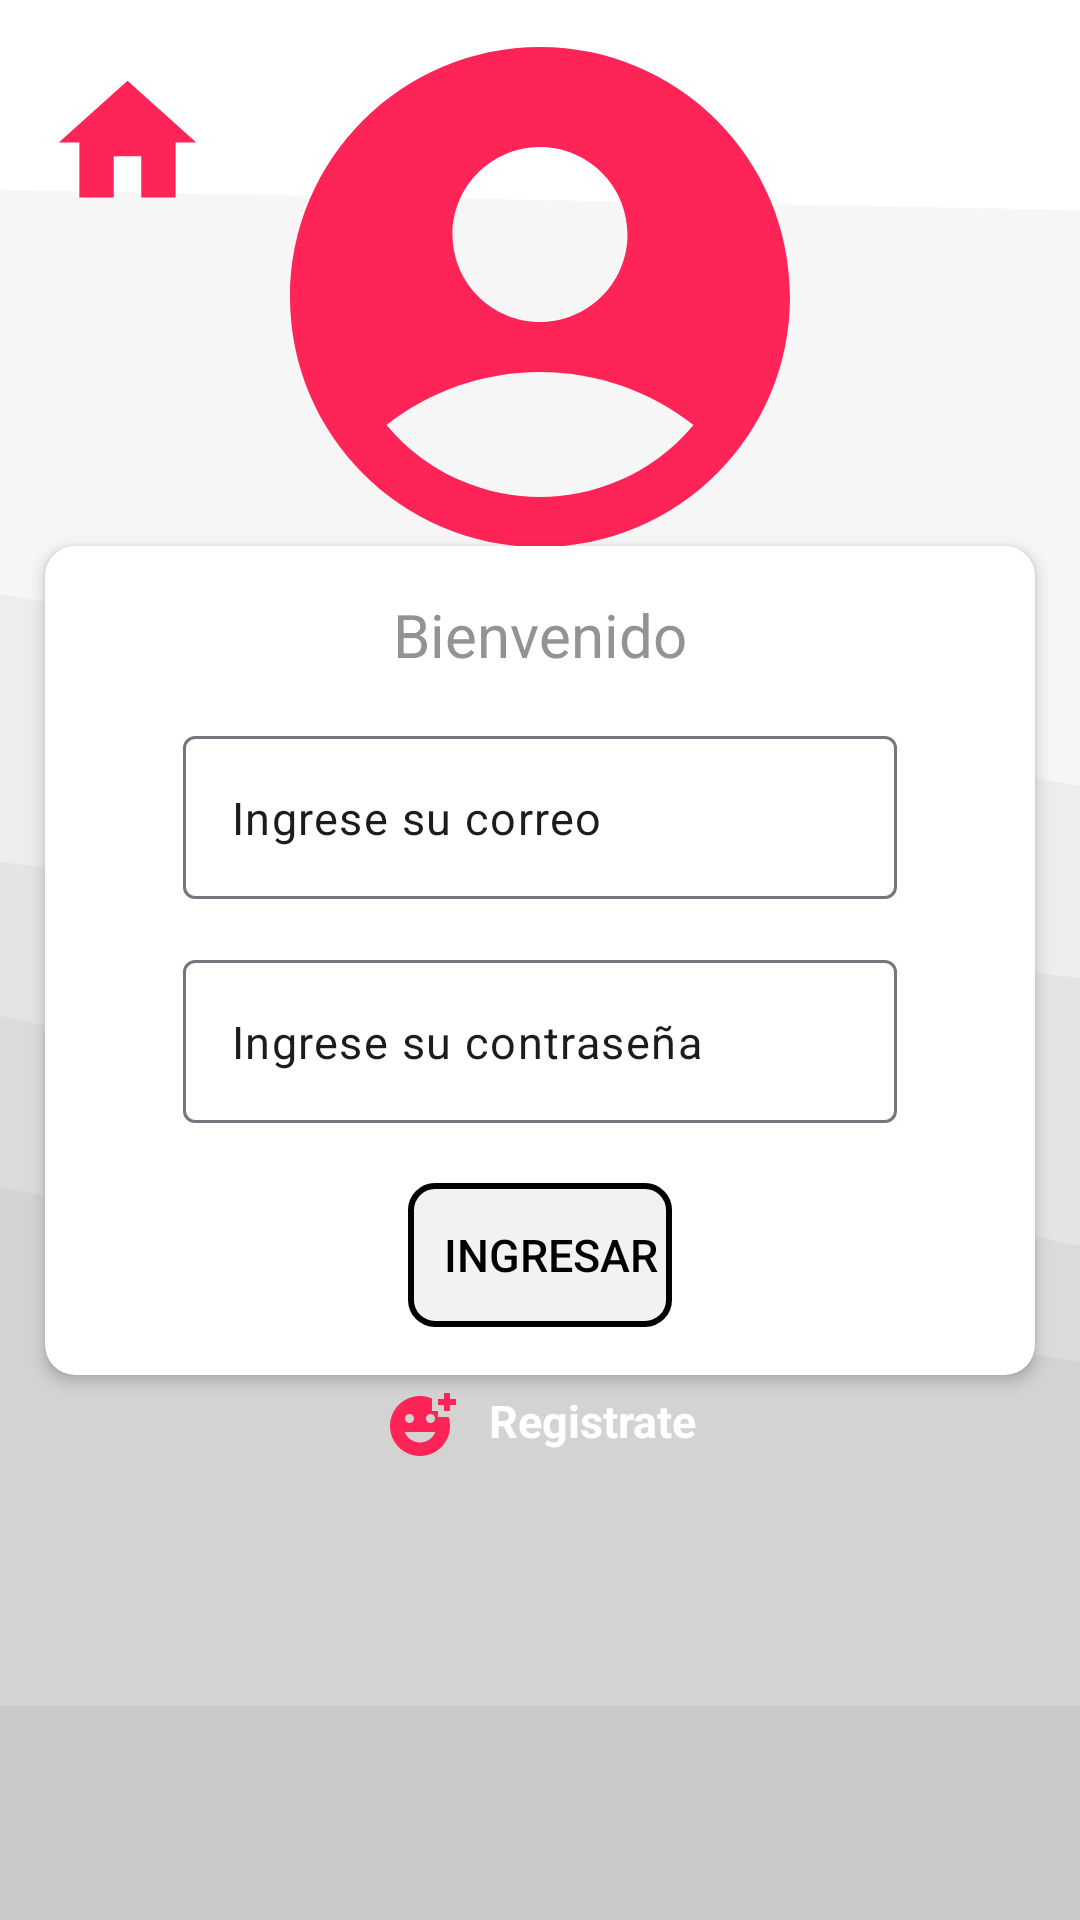

Icons on this 1080×1920 Android screen, each with the point to tap as point (x, y):
home: point (127, 139)
